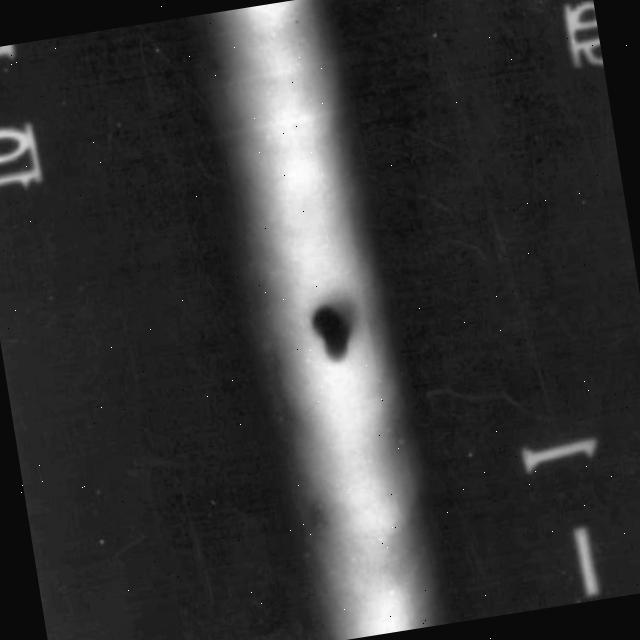Slag: (292, 274, 368, 380)
